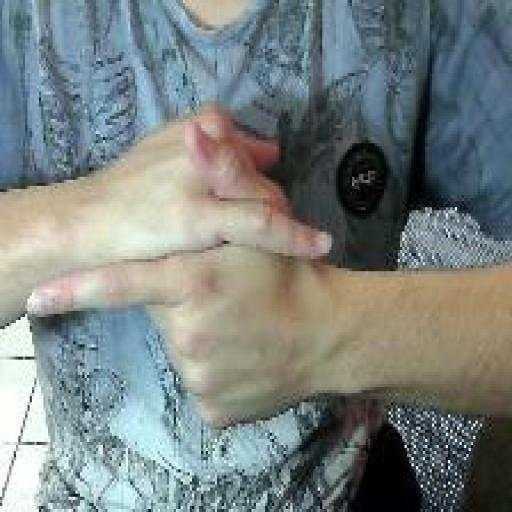U -hare-: (24, 99, 337, 437)
